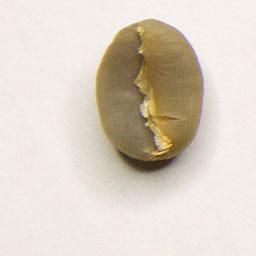premium: (92, 16, 206, 165)
